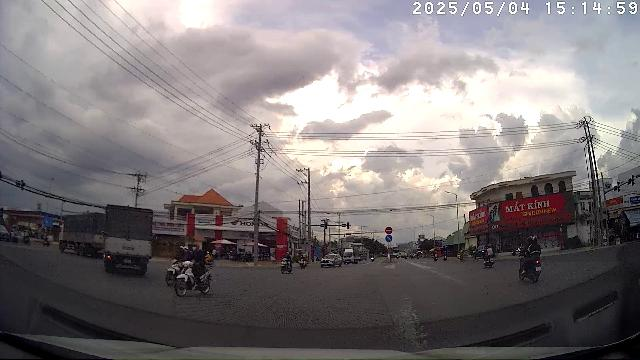102-cam-di-nguoc-chieu: (385, 226, 393, 234)
302a-huong-phai-di-vong-chuong-ngai-vat-1: (385, 234, 393, 242)
